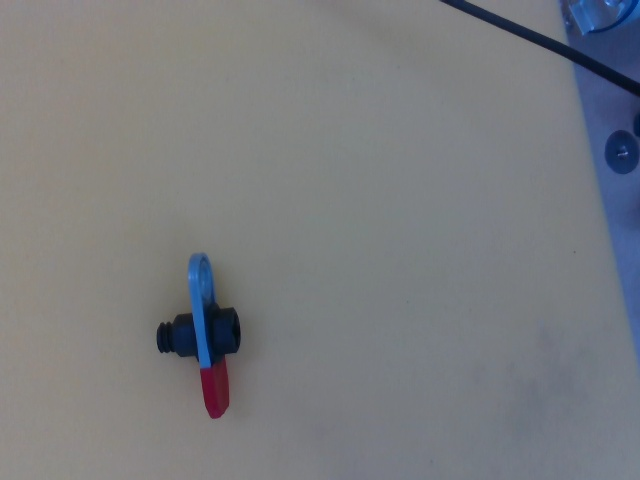part_1_good: (154, 250, 245, 423)
